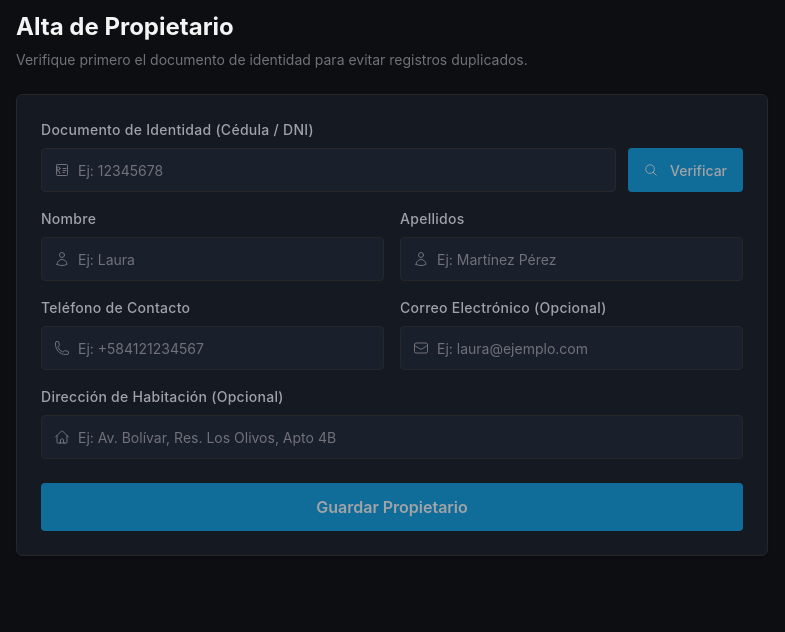
Test: UI Integration: OwnerRegisterScreen (RF-68, RF-60, RNF-3) › debe permitir dar de alta exitosamente cuando lookup responde exists false
The image size is (785, 632).
Verificar documento disponible
Type "87654321" into the field with placeholder "Ej: 12345678" at (341, 170), box [78,149,603,191]
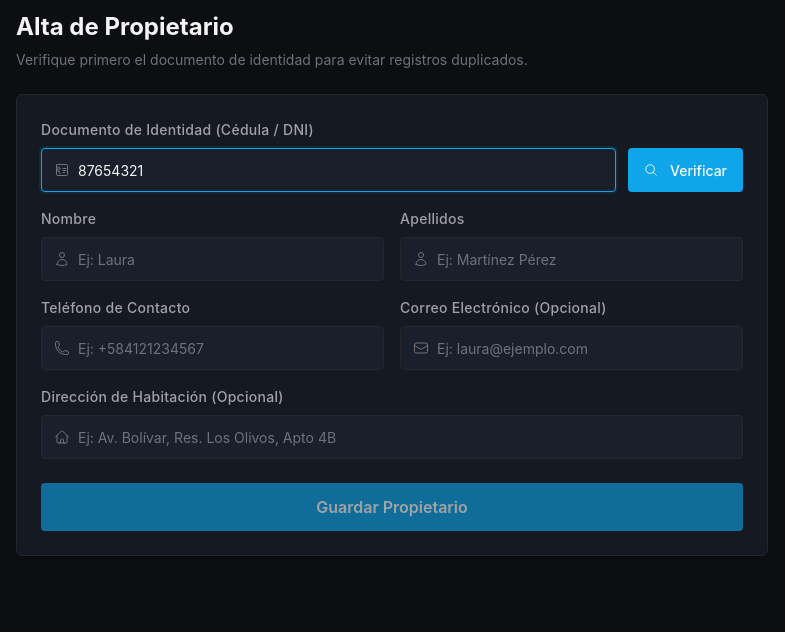
Click the button "Verificar" at (686, 170), box [628,148,743,192]
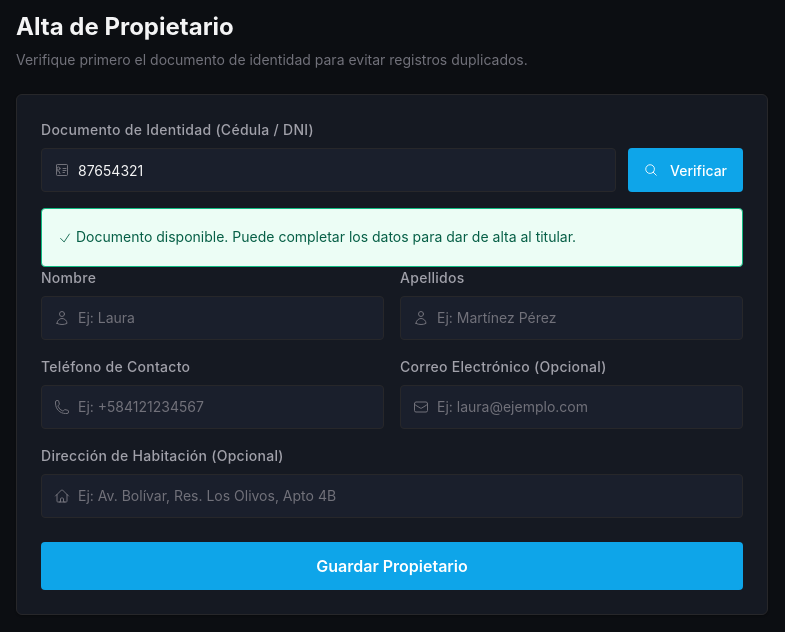
Expected: the text "Documento disponible" is shown, [76,228,576,245]
Completar campos del formulario
Type "Laura" into the field with placeholder "Ej: Laura" at (224, 318), box [78,296,371,338]
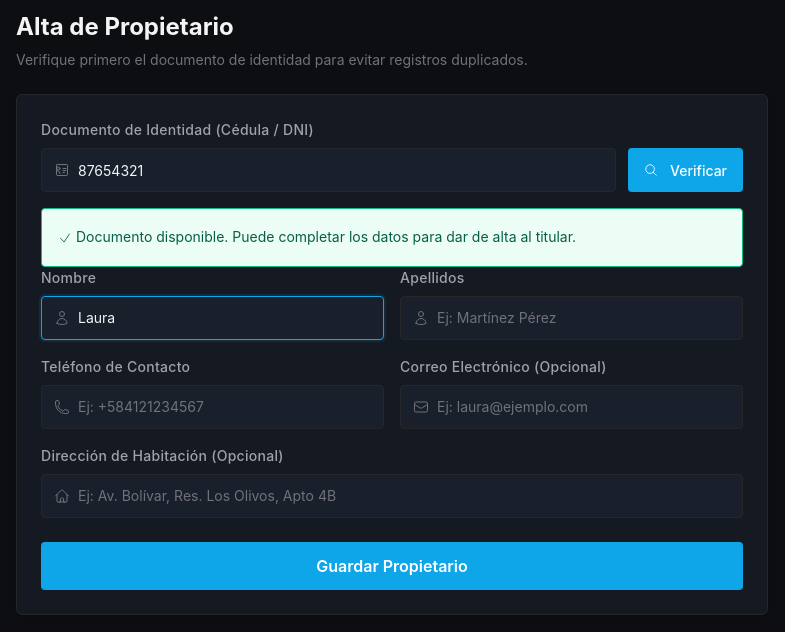
Type "Torres" into the field with placeholder "Ej: Martínez Pérez" at (584, 318), box [437,296,730,338]
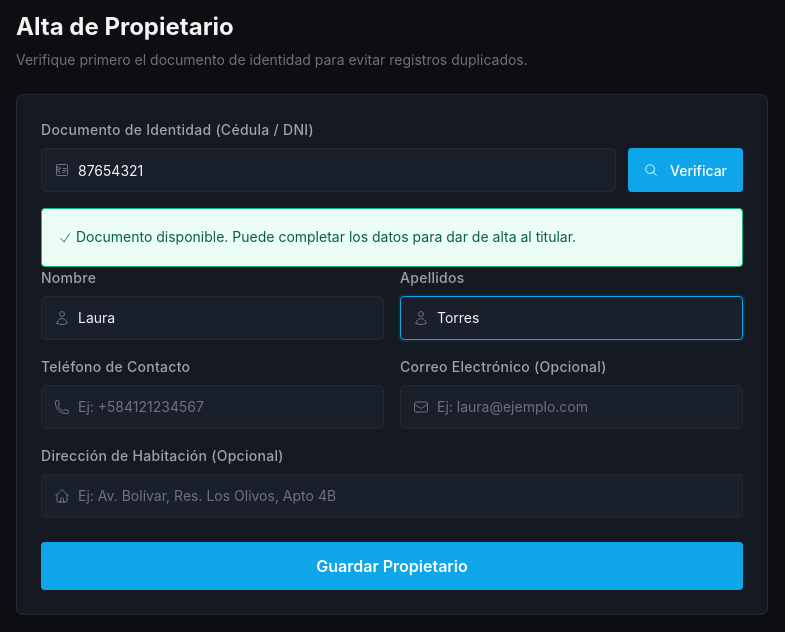
Type "+584241234567" into the field with placeholder "Ej: +584121234567" at (224, 406), box [78,386,371,428]
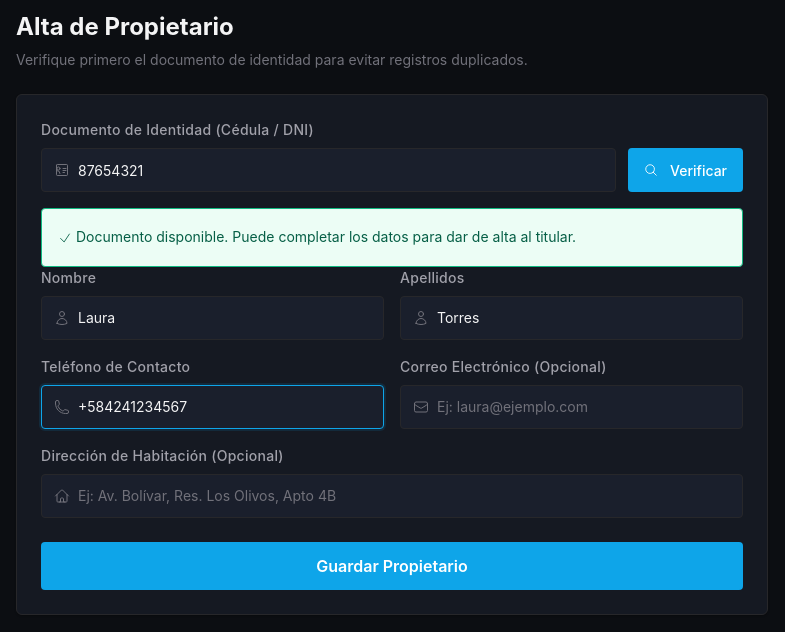
Expected: the button "Guardar Propietario" is enabled
Click the button "Guardar Propietario" at (392, 566), box [41,542,743,590]
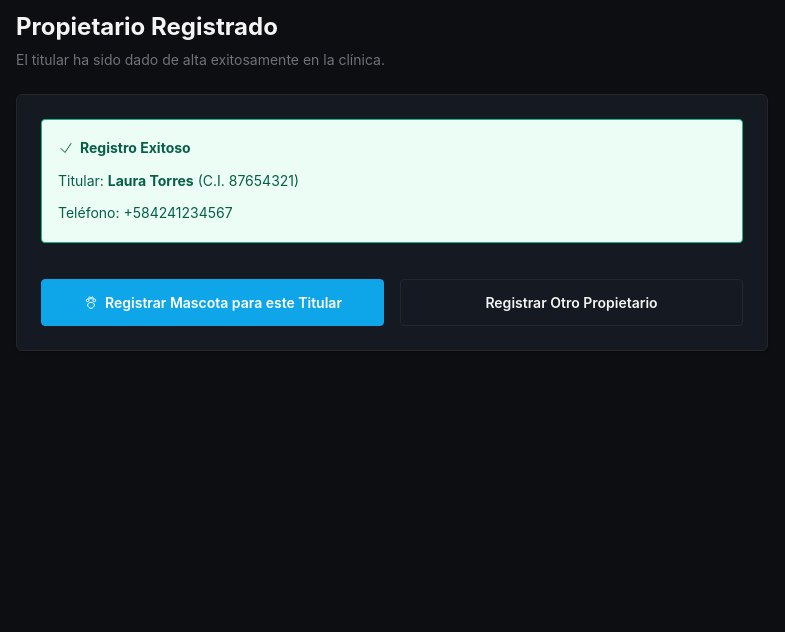
Expected: the text "Registro Exitoso" is shown, [58,139,191,156]
